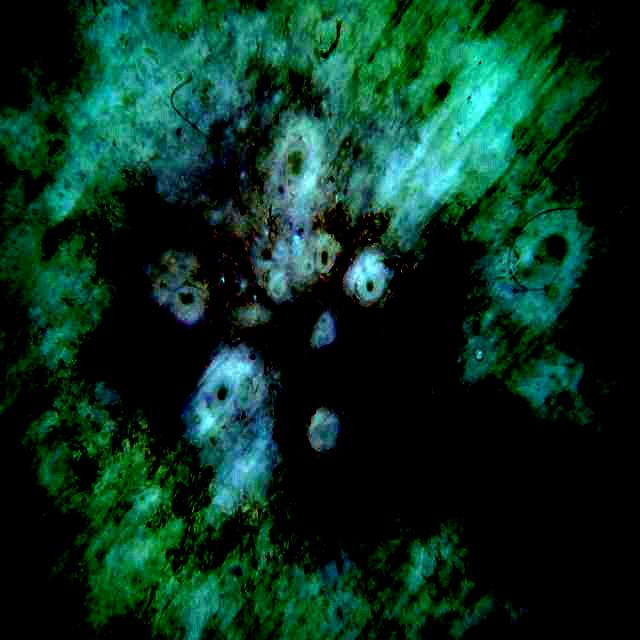DF: (83, 138, 586, 578)
